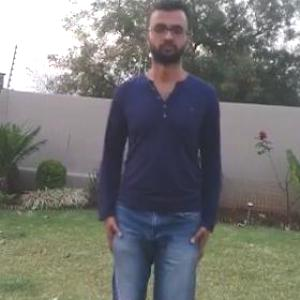follow: (95, 4, 222, 299)
